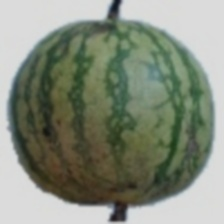watermelon: (20, 35, 216, 217)
